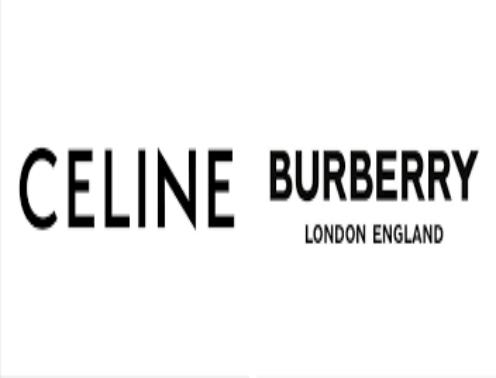CELINE: (15, 116, 262, 261)
